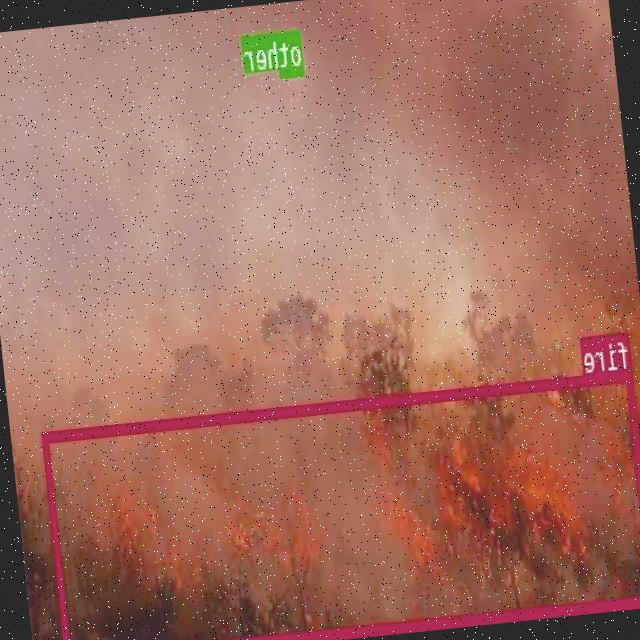fire: (43, 367, 640, 640)
